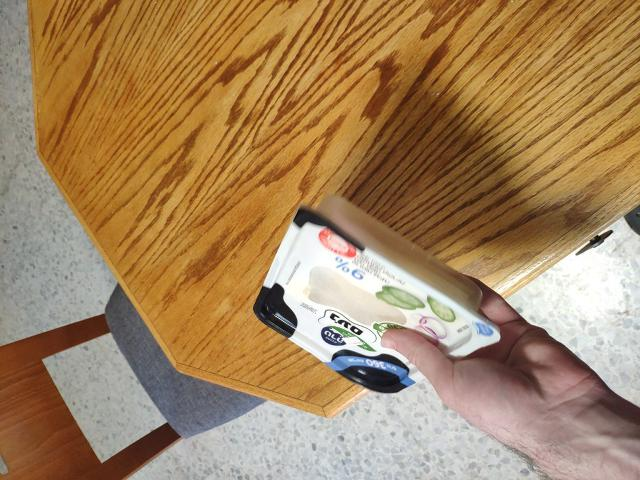cheese: (236, 156, 480, 398)
